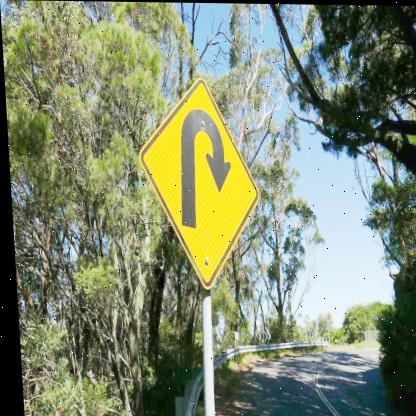U-turn: (132, 68, 266, 293)
